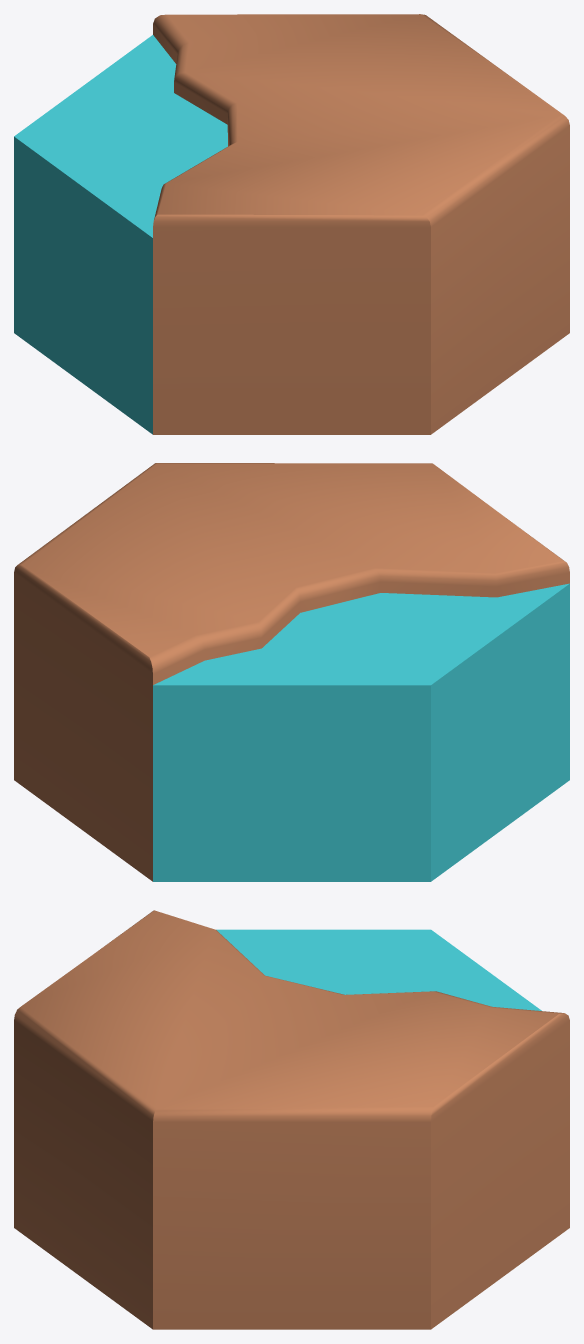
Rendered from hex_rock_waterD.glb.
3 renders of one model, top to bottom at view 1: azimuth 30°, elevation 25°; view 2: azimuth 150°, elevation 25°; view 3: azimuth 270°, elevation 25°, orthographic.
Parts seen in each view (by area): view 1: hex_rock_waterD; view 2: hex_rock_waterD; view 3: hex_rock_waterD.
Part boxes in pixels (bbox=[...]): hex_rock_waterD: bbox=[14, 14, 569, 434]; hex_rock_waterD: bbox=[14, 463, 569, 881]; hex_rock_waterD: bbox=[14, 910, 569, 1329].
Size of the model in its own units: 3.43 by 1.72 by 3.96.
